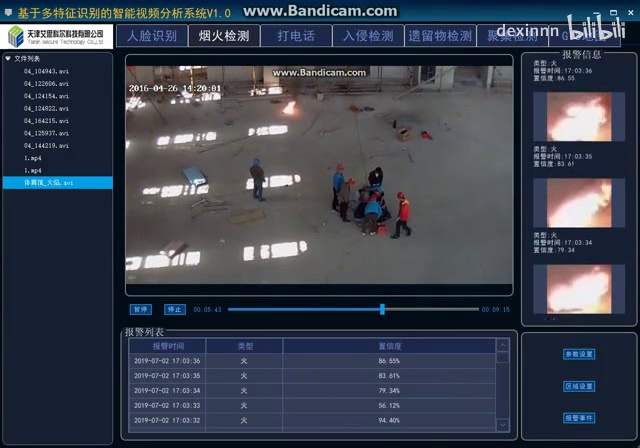fire: (281, 98, 301, 118)
